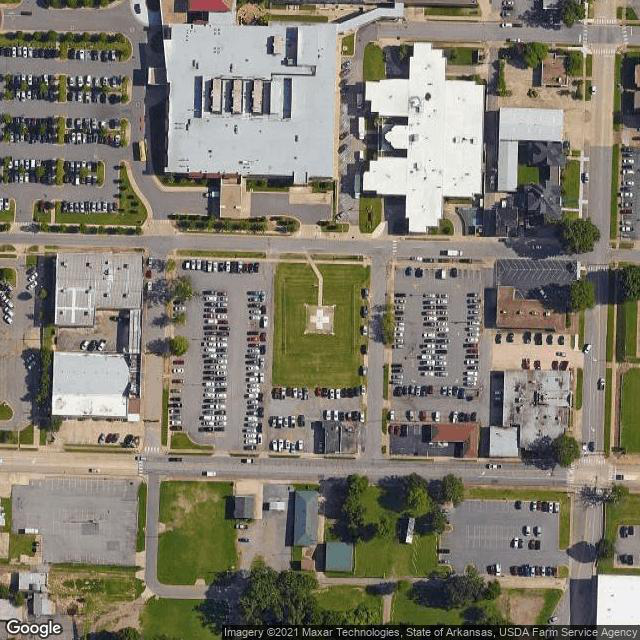Helipad: (303, 302, 336, 336)
